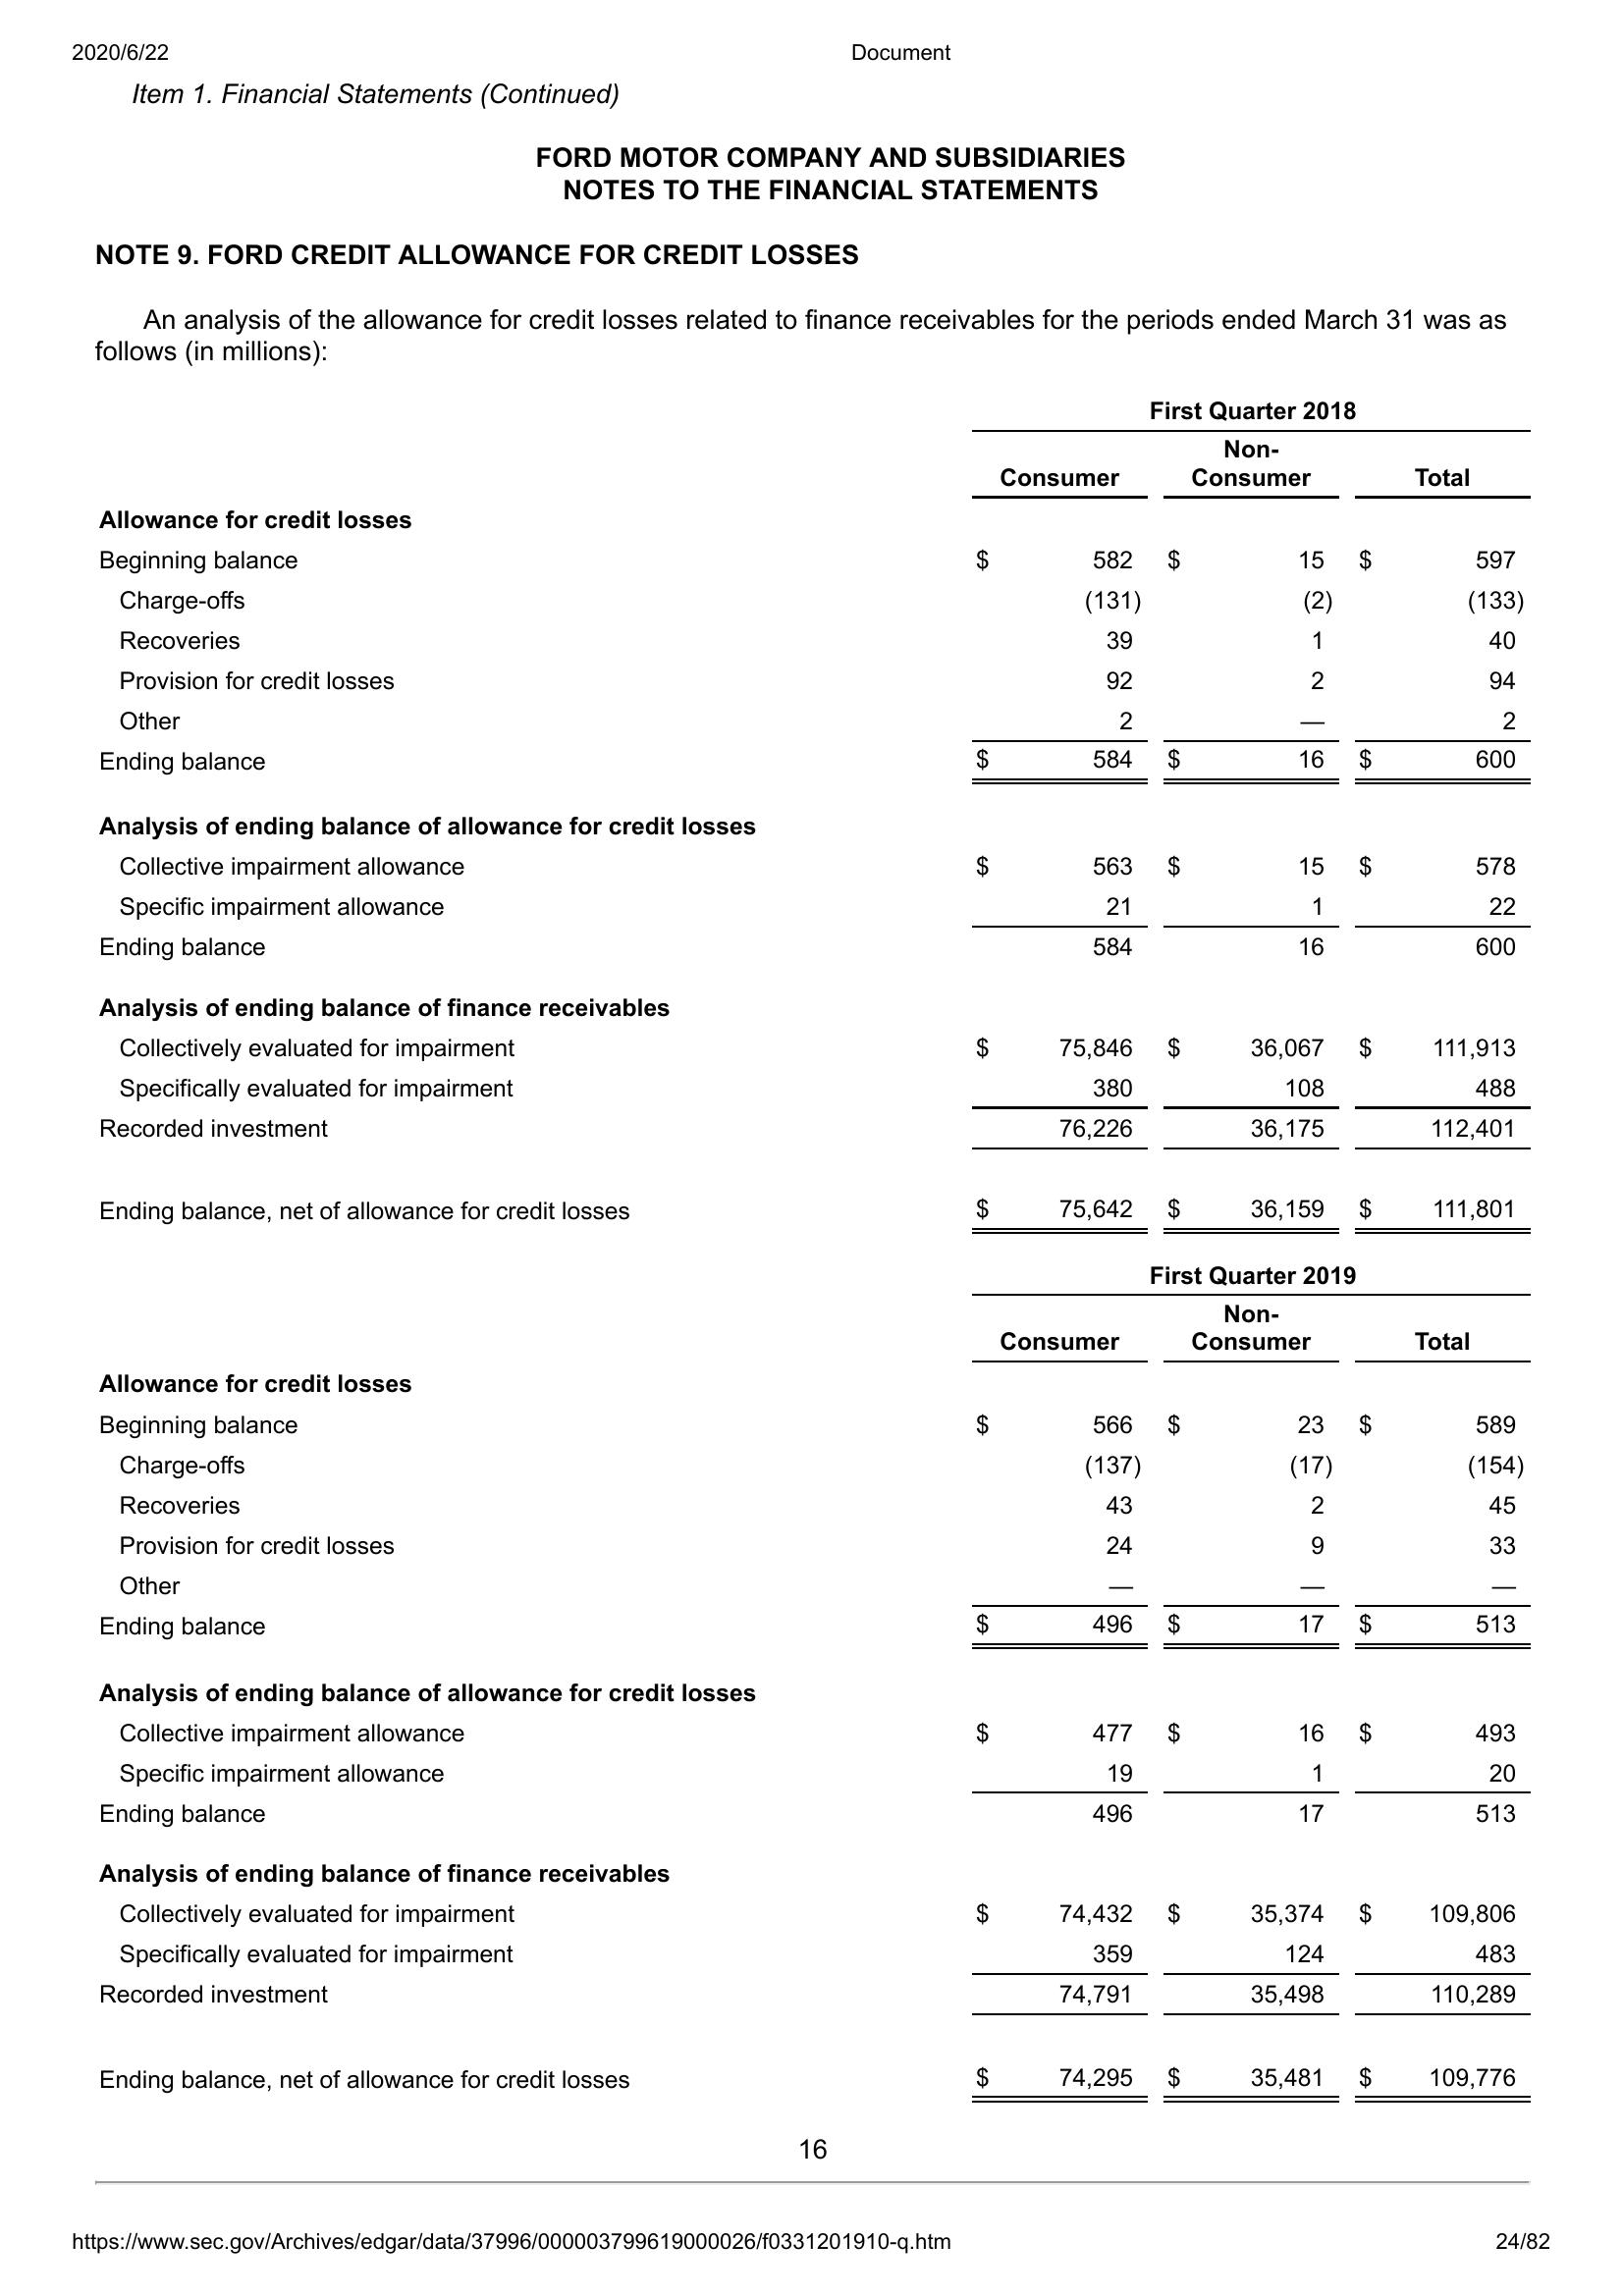table: (88, 388, 1540, 1243), (95, 1250, 1535, 1657), (95, 1852, 1539, 2115), (91, 1675, 1535, 1840)
